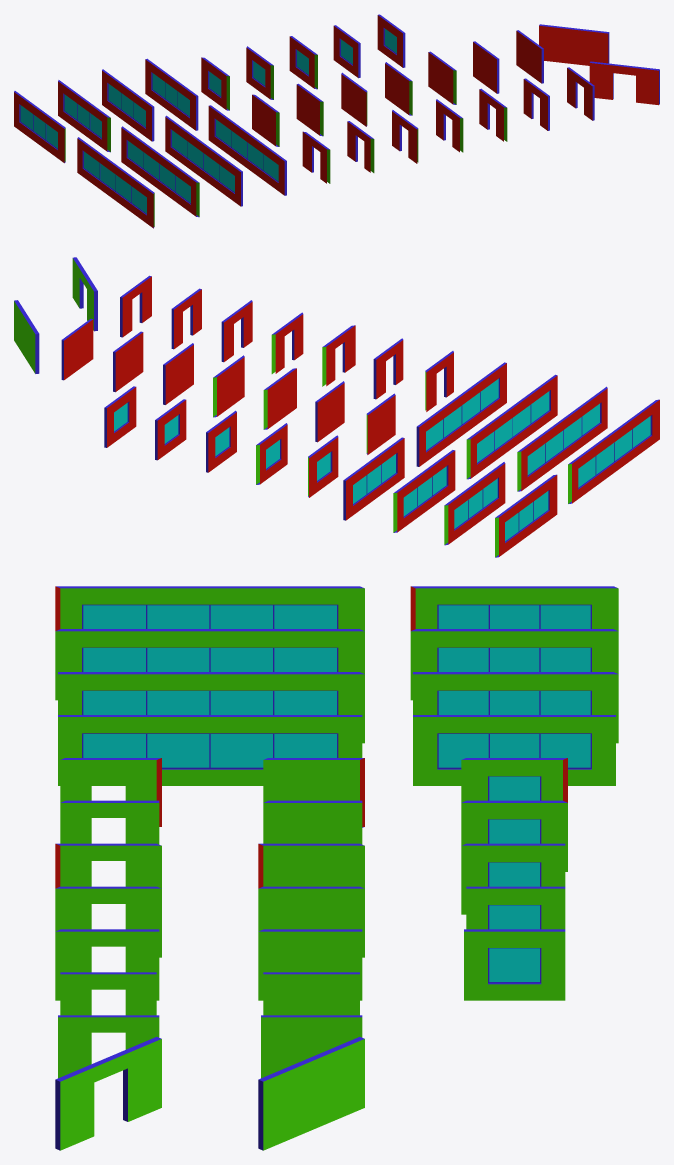
The model's file is Walls.fbx.
The picture shows the model from 3 angles, top to bottom: view 1: azimuth 30°, elevation 25°; view 2: azimuth 150°, elevation 25°; view 3: azimuth 270°, elevation 25°; orthographic projection. The views are drawn at different scales.
Parts seen in each view (by area): view 1: Diagonal_Wall, Large_window.002, Large_window.006, Large_window.007, Large_window.003, Diagonal_Doorway, DoubleWindow, DoubleWindow_BevelTwoSide, DoubleWindow_BevelOneSide, DoubleWindow_BevelDifferentSides, Large_window.004, Large_window.005 (+25 smaller); view 2: Large_window.007, Large_window.003, Large_window.002, Large_window.006, DoubleWindow_BevelDifferentSides, DoubleWindow_BevelOneSide, DoubleWindow_BevelTwoSide, DoubleWindow, Wall_BevelDifferentSides, Large_window.004, Large_window.001, Large_window.005 (+25 smaller); view 3: Large_window.002, Diagonal_Wall, Large_window.007, DoubleWindow, Large_window.006, Large_window.003, Large_window.004, Diagonal_Doorway, Large_window.005, Large_window.008, Large_window.001, Window (+30 smaller).
Boxes of the visible parts, x1,y1,x2,y2 form: Diagonal_Wall: [539, 24, 609, 65]; Large_window.002: [208, 105, 286, 195]; Large_window.006: [121, 126, 199, 217]; Large_window.007: [77, 137, 154, 228]; Large_window.003: [165, 115, 242, 206]; Diagonal_Doorway: [589, 61, 659, 105]; DoubleWindow: [145, 58, 198, 130]; DoubleWindow_BevelTwoSide: [58, 80, 110, 152]; DoubleWindow_BevelOneSide: [102, 69, 154, 141]; DoubleWindow_BevelDifferentSides: [14, 91, 65, 163]; Large_window.004: [216, 119, 278, 181]; Large_window.005: [172, 130, 234, 192]; Large_window.007: [568, 399, 659, 503]; Large_window.003: [466, 374, 557, 479]; Large_window.002: [416, 362, 506, 466]; Large_window.006: [517, 386, 607, 491]; DoubleWindow_BevelDifferentSides: [495, 474, 557, 557]; DoubleWindow_BevelOneSide: [393, 450, 455, 532]; DoubleWindow_BevelTwoSide: [444, 462, 505, 545]; DoubleWindow: [343, 437, 404, 520]; Wall_BevelDifferentSides: [263, 368, 296, 429]; Large_window.004: [426, 379, 498, 450]; Large_window.001: [578, 416, 650, 487]; Large_window.005: [477, 391, 549, 462]; Large_window.002: [58, 715, 362, 785]; Diagonal_Wall: [258, 1037, 364, 1150]; Large_window.007: [55, 586, 364, 630]; DoubleWindow: [413, 715, 615, 785]; Large_window.006: [55, 629, 364, 700]; Large_window.003: [58, 672, 364, 743]; Large_window.004: [83, 734, 336, 767]; Diagonal_Doorway: [55, 1037, 161, 1150]; Large_window.005: [83, 691, 336, 714]; Large_window.008: [83, 648, 336, 671]; Large_window.001: [83, 605, 336, 628]; Window: [464, 929, 565, 1000].
Bounding box in the file's own units: 46.2 × 3 × 22.2.
